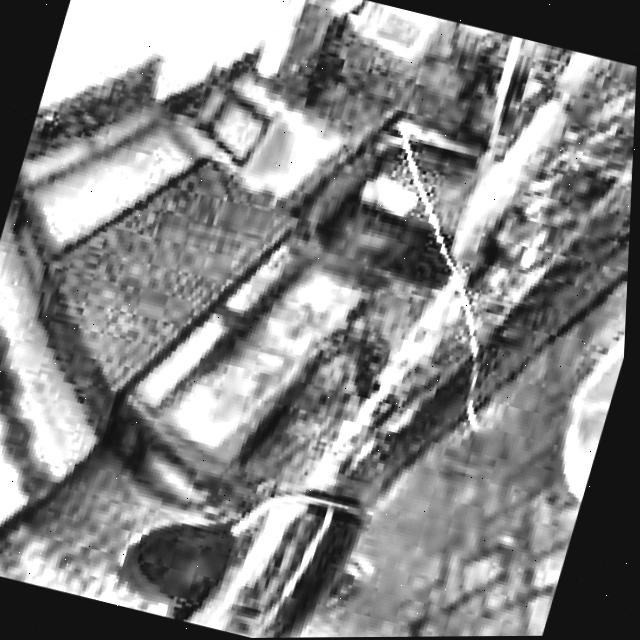door_scratch: (309, 124, 564, 445)
